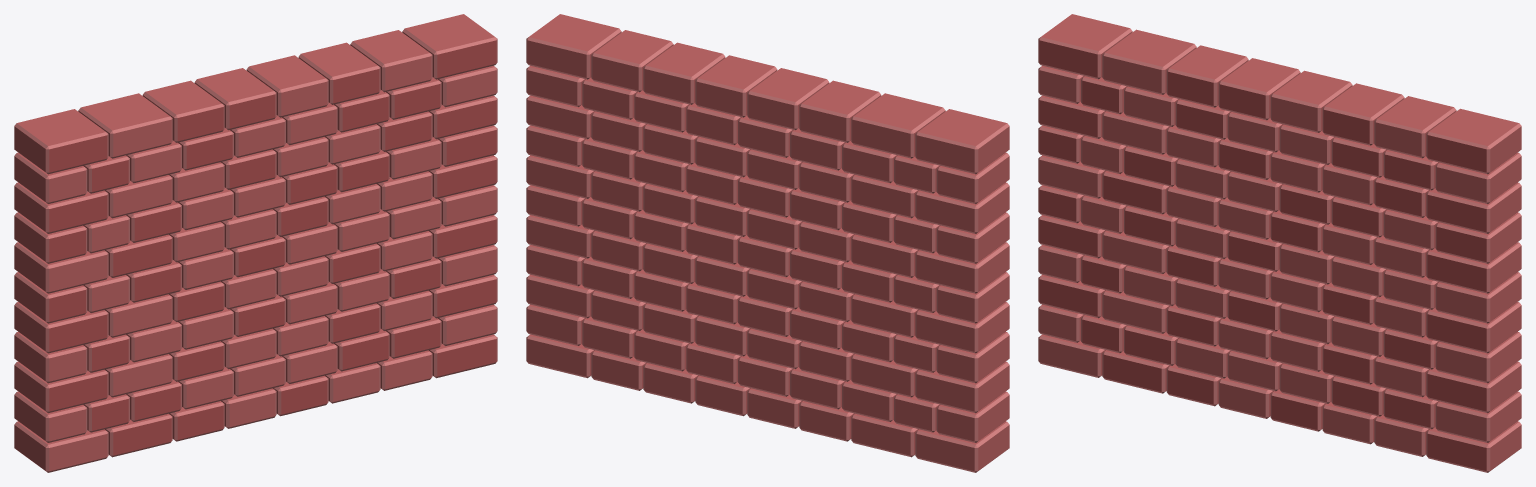
Rendered from Brickwall_Broken.fbx.
3 views of the same model, side by side, from view 1: azimuth 30°, elevation 25°; view 2: azimuth 150°, elevation 25°; view 3: azimuth 330°, elevation 25° (orthographic).
Visible parts, largest first — view 1: BrickWall_Piece.086, BrickWall_Piece.092, BrickWall_Piece.085, BrickWall_Piece.087, BrickWall_Piece.091, BrickWall_Piece.088, BrickWall_Piece.089, BrickWall_Piece.090, BrickWall_Piece.018, BrickWall_Piece.001, BrickWall_Piece.052, BrickWall_Piece.069 (+81 smaller); view 2: BrickWall_Piece.086, BrickWall_Piece.092, BrickWall_Piece.085, BrickWall_Piece.087, BrickWall_Piece.091, BrickWall_Piece.088, BrickWall_Piece.089, BrickWall_Piece.090, BrickWall_Piece.018, BrickWall_Piece.001, BrickWall_Piece.052, BrickWall_Piece.069 (+81 smaller); view 3: BrickWall_Piece.092, BrickWall_Piece.086, BrickWall_Piece.085, BrickWall_Piece.087, BrickWall_Piece.089, BrickWall_Piece.091, BrickWall_Piece.088, BrickWall_Piece.090, BrickWall_Piece.024, BrickWall_Piece.007, BrickWall_Piece.041, BrickWall_Piece.075 (+81 smaller).
Boxes of the visible parts, x1=… form: BrickWall_Piece.086: x1=14, y1=109, x2=108, y2=174; BrickWall_Piece.092: x1=402, y1=14, x2=497, y2=79; BrickWall_Piece.085: x1=78, y1=93, x2=172, y2=158; BrickWall_Piece.087: x1=142, y1=80, x2=224, y2=142; BrickWall_Piece.091: x1=350, y1=30, x2=432, y2=92; BrickWall_Piece.088: x1=194, y1=68, x2=276, y2=130; BrickWall_Piece.089: x1=246, y1=55, x2=328, y2=117; BrickWall_Piece.090: x1=298, y1=42, x2=380, y2=104; BrickWall_Piece.018: x1=14, y1=361, x2=108, y2=413; BrickWall_Piece.001: x1=14, y1=421, x2=108, y2=472; BrickWall_Piece.052: x1=14, y1=242, x2=108, y2=293; BrickWall_Piece.069: x1=14, y1=182, x2=108, y2=233; BrickWall_Piece.086: x1=915, y1=109, x2=1009, y2=174; BrickWall_Piece.092: x1=526, y1=14, x2=621, y2=79; BrickWall_Piece.085: x1=851, y1=93, x2=945, y2=158; BrickWall_Piece.087: x1=799, y1=80, x2=881, y2=142; BrickWall_Piece.091: x1=591, y1=30, x2=673, y2=92; BrickWall_Piece.088: x1=747, y1=68, x2=829, y2=130; BrickWall_Piece.089: x1=695, y1=55, x2=777, y2=117; BrickWall_Piece.090: x1=643, y1=42, x2=725, y2=104; BrickWall_Piece.018: x1=915, y1=361, x2=1009, y2=413; BrickWall_Piece.001: x1=915, y1=421, x2=1009, y2=472; BrickWall_Piece.052: x1=915, y1=242, x2=1009, y2=293; BrickWall_Piece.069: x1=915, y1=182, x2=1009, y2=233; BrickWall_Piece.092: x1=1426, y1=108, x2=1521, y2=174; BrickWall_Piece.086: x1=1038, y1=14, x2=1132, y2=79; BrickWall_Piece.085: x1=1102, y1=29, x2=1196, y2=94; BrickWall_Piece.087: x1=1166, y1=45, x2=1248, y2=107; BrickWall_Piece.089: x1=1270, y1=70, x2=1352, y2=132; BrickWall_Piece.091: x1=1374, y1=96, x2=1456, y2=158; BrickWall_Piece.088: x1=1218, y1=58, x2=1300, y2=120; BrickWall_Piece.090: x1=1322, y1=83, x2=1404, y2=145; BrickWall_Piece.024: x1=1426, y1=361, x2=1521, y2=413; BrickWall_Piece.007: x1=1426, y1=421, x2=1521, y2=472; BrickWall_Piece.041: x1=1426, y1=302, x2=1521, y2=353; BrickWall_Piece.075: x1=1426, y1=182, x2=1521, y2=233.
Bounding box in the file's own units: 271 × 187 × 35.
